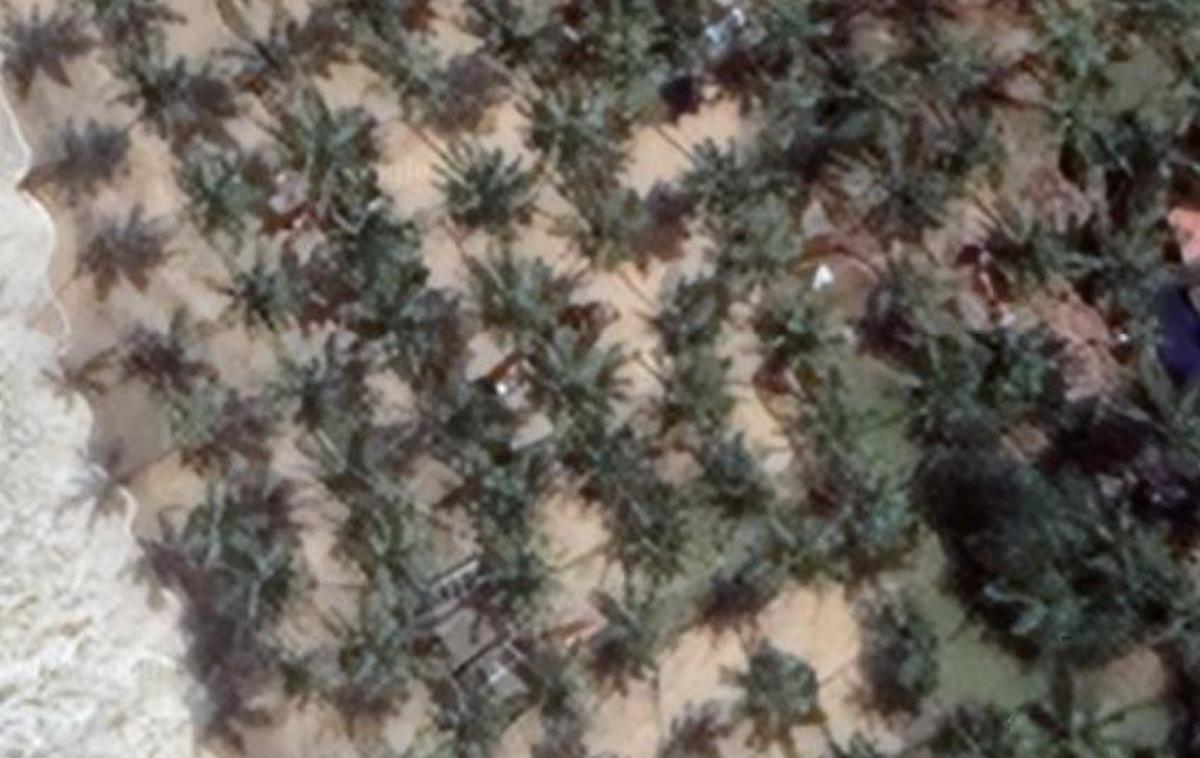coconut: (1062, 199, 1192, 329), (979, 535, 1095, 657), (975, 181, 1105, 289), (525, 315, 637, 434), (850, 261, 959, 381), (515, 72, 634, 181), (298, 164, 405, 282), (975, 304, 1091, 412), (1113, 350, 1200, 493), (746, 39, 856, 152), (838, 127, 949, 234), (1021, 0, 1127, 108), (896, 14, 1007, 113), (111, 298, 220, 398), (1019, 660, 1130, 758), (1098, 93, 1200, 196), (1081, 489, 1177, 598), (453, 420, 555, 521), (431, 651, 532, 753), (580, 572, 684, 670), (228, 18, 330, 113), (370, 287, 463, 391), (428, 137, 525, 236), (732, 637, 836, 729), (641, 267, 740, 363), (764, 482, 856, 584), (278, 86, 366, 192), (155, 391, 257, 482), (336, 497, 432, 593), (220, 243, 312, 343), (511, 623, 602, 722), (562, 412, 660, 503), (863, 606, 961, 697), (602, 479, 689, 581), (265, 350, 356, 446), (206, 523, 293, 620), (185, 141, 265, 246), (657, 347, 746, 439), (138, 517, 234, 601), (467, 528, 558, 616), (689, 544, 780, 632), (771, 287, 855, 381), (734, 195, 815, 292), (565, 176, 644, 275), (689, 420, 771, 514), (677, 137, 761, 227), (359, 591, 446, 677), (470, 254, 544, 354), (452, 0, 548, 72), (120, 53, 196, 131), (275, 632, 351, 707)
